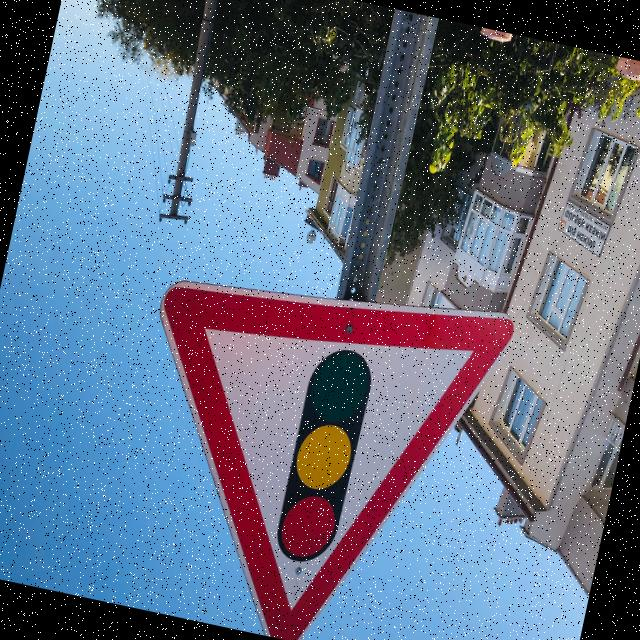light_traffic: (95, 239, 524, 640)
